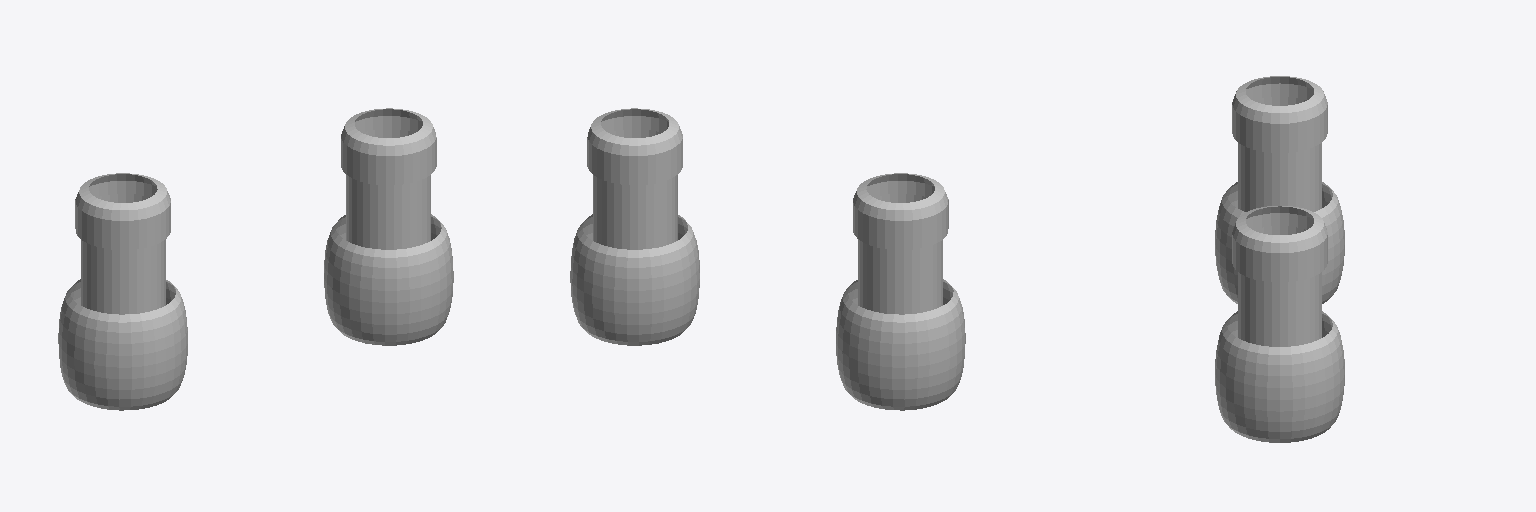
File: drone.obj
3 renders of one model, left to right at view 1: azimuth 30°, elevation 25°; view 2: azimuth 150°, elevation 25°; view 3: azimuth 270°, elevation 25°, orthographic.
Visible parts, largest first — view 1: Cylinder; view 2: Cylinder; view 3: Cylinder.
Boxes of the visible parts, x1,y1,x2,y2 form: Cylinder: [58, 108, 453, 410]; Cylinder: [570, 108, 965, 410]; Cylinder: [1215, 76, 1344, 442].
Bounding box in the file's own units: 11.68 × 5.89 × 3.48.